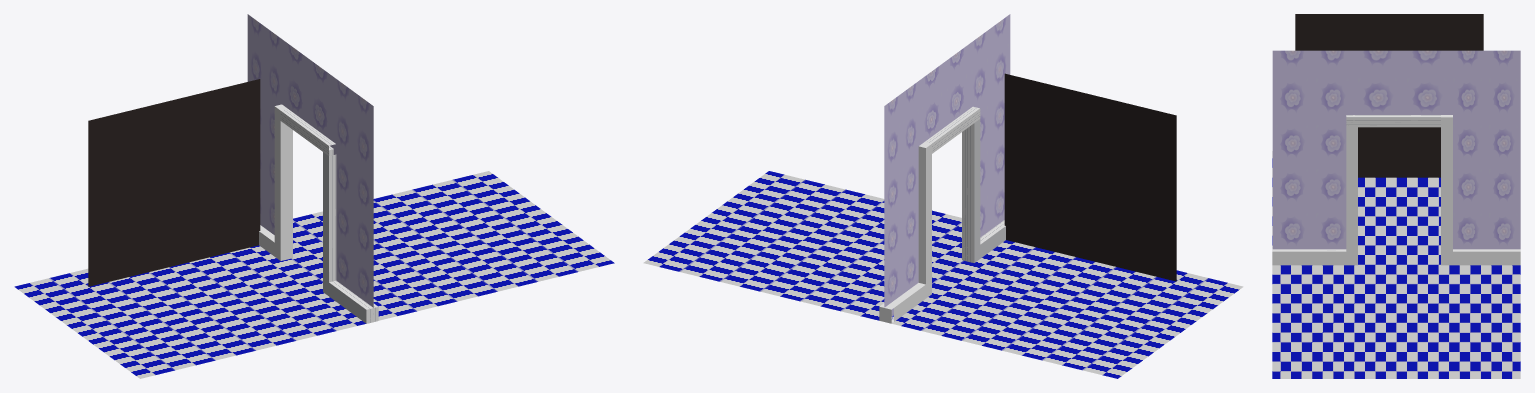
The model's file is corridor1.obj.
3 renders of one model, left to right at view 1: azimuth 30°, elevation 25°; view 2: azimuth 150°, elevation 25°; view 3: azimuth 270°, elevation 25°, orthographic.
Visible parts, largest first — view 1: pCube6, pCube9, walls, skirting_and_door_frame; view 2: pCube6, pCube9, walls, skirting_and_door_frame; view 3: pCube6, walls, pCube9, skirting_and_door_frame.
Boxes of the visible parts, left/top/right/bottom form: pCube6: left=14, top=171, right=614, bottom=378; pCube9: left=88, top=79, right=260, bottom=286; walls: left=247, top=14, right=373, bottom=307; skirting_and_door_frame: left=259, top=104, right=378, bottom=323; pCube6: left=643, top=171, right=1243, bottom=378; pCube9: left=1004, top=73, right=1176, bottom=281; walls: left=884, top=14, right=1010, bottom=315; skirting_and_door_frame: left=879, top=106, right=1005, bottom=323; pCube6: left=1272, top=151, right=1520, bottom=378; walls: left=1272, top=50, right=1520, bottom=249; pCube9: left=1295, top=14, right=1483, bottom=177; skirting_and_door_frame: left=1272, top=115, right=1520, bottom=265.
Size of the model in its own units: 294 by 133 by 135.
Materials: 4 (4 with a texture image).
